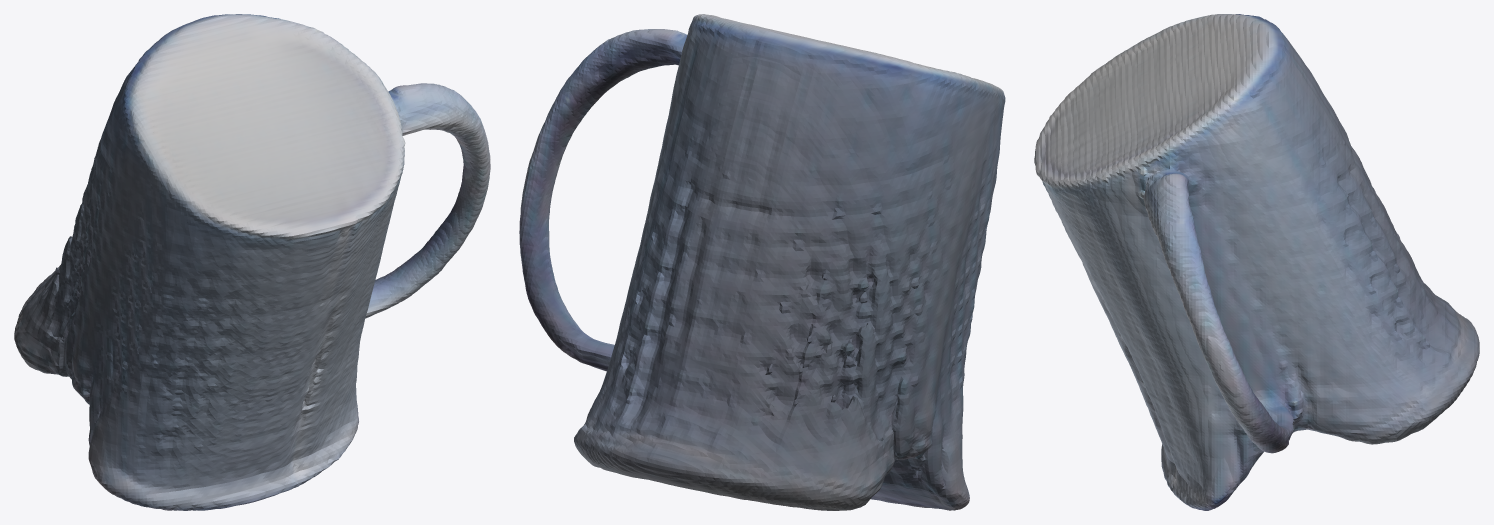
Rendered from demo_mug.glb.
The picture shows the model from 3 angles, left to right: view 1: azimuth 30°, elevation 25°; view 2: azimuth 150°, elevation 25°; view 3: azimuth 270°, elevation 25°; orthographic projection. The views are drawn at different scales.
Parts seen in each view (by area): view 1: geometry_0; view 2: geometry_0; view 3: geometry_0.
Part boxes in pixels (x1,y1,x2,y2): geometry_0: [14, 14, 490, 510]; geometry_0: [519, 14, 1005, 510]; geometry_0: [1034, 14, 1479, 510].
Bounding box in the file's own units: 0.9218 × 1 × 0.9207.
